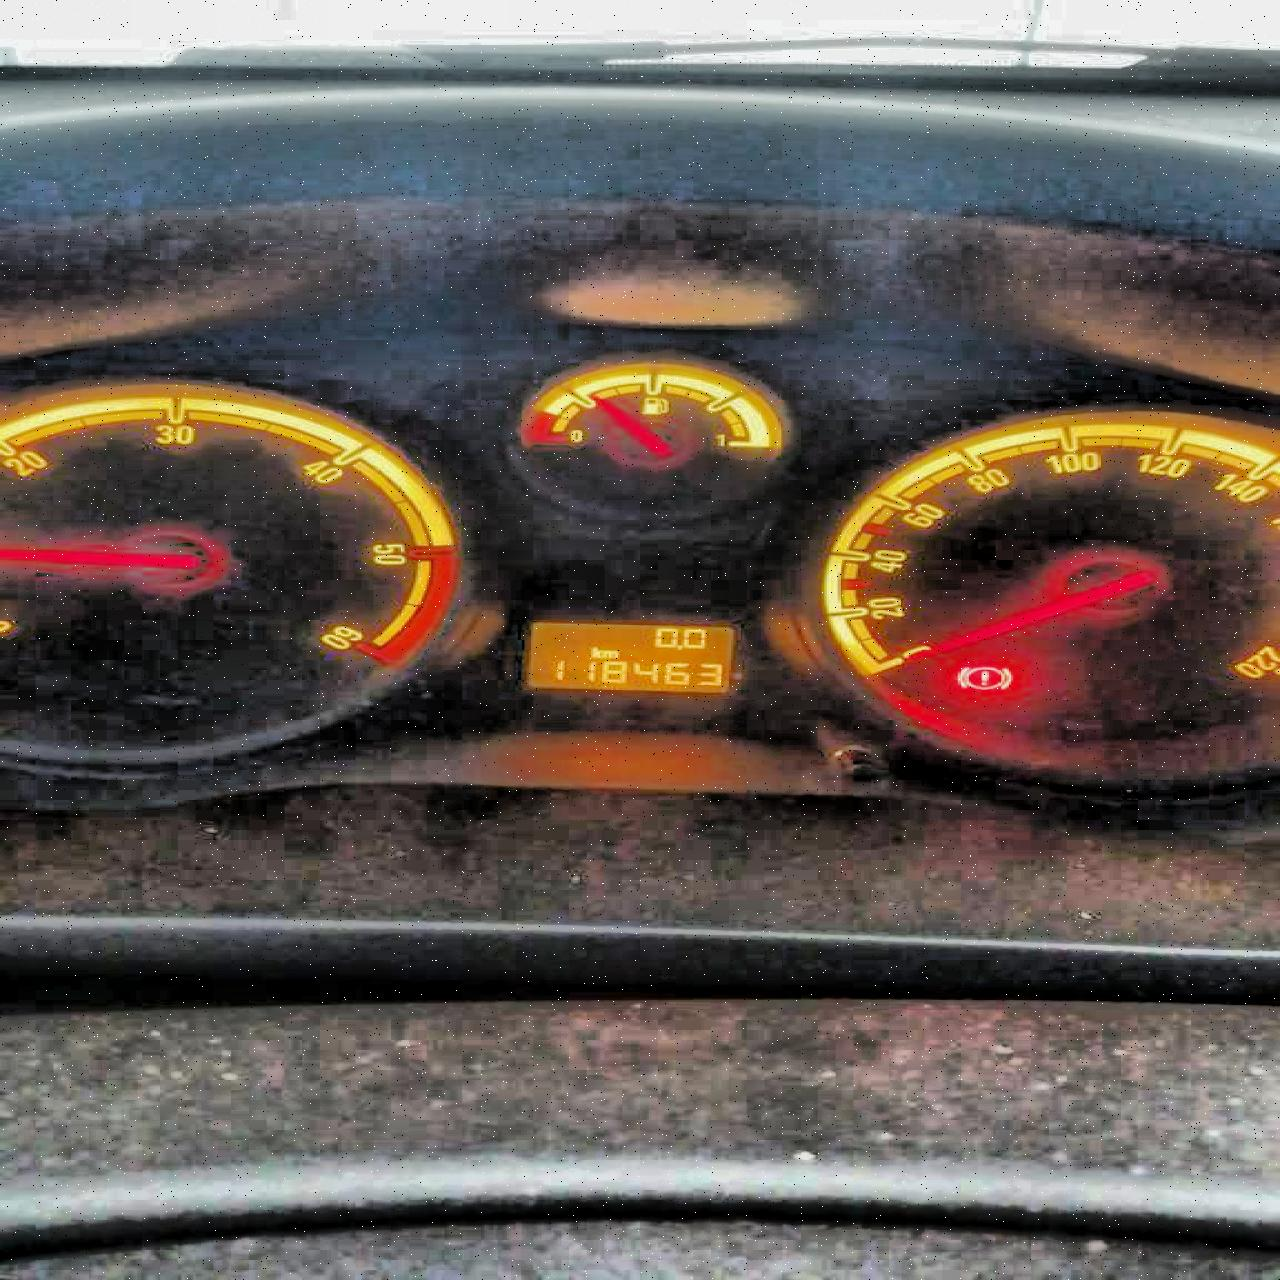-: (675, 644, 682, 651)
0: (680, 626, 704, 647), (652, 626, 675, 647)
1: (549, 658, 568, 680), (580, 658, 598, 682)
3: (694, 661, 722, 687)
4: (629, 660, 658, 685)
6: (660, 660, 692, 685)
8: (598, 659, 626, 682)
X: (587, 645, 600, 658), (600, 648, 618, 658)
odometer: (516, 615, 741, 696)
